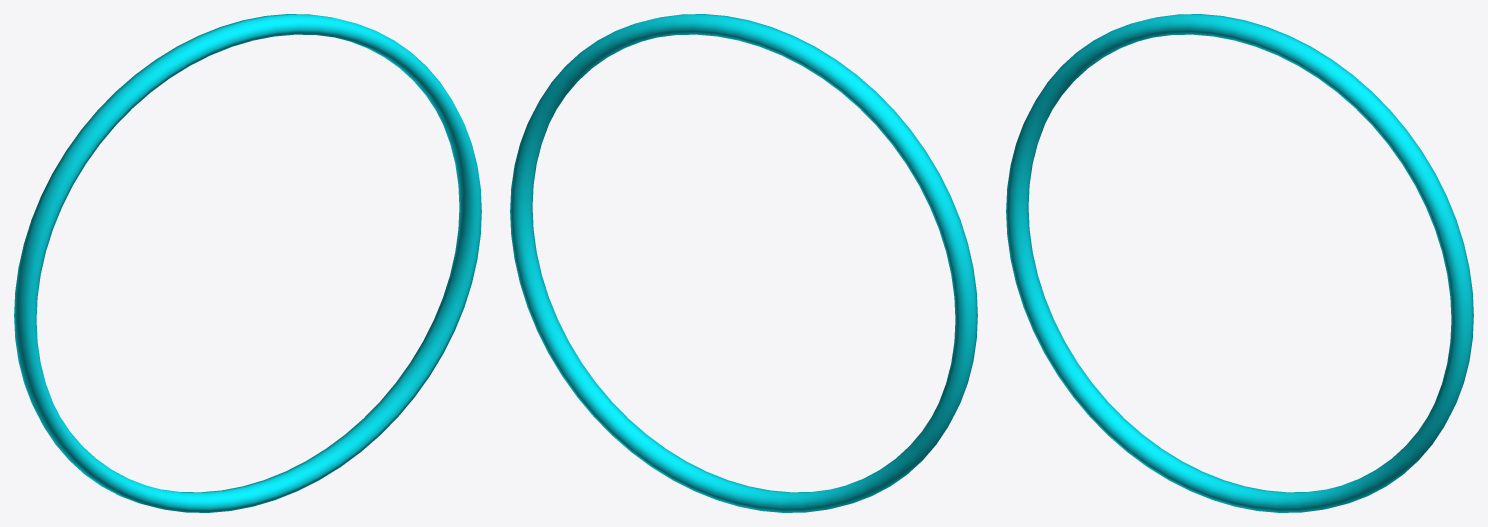
The model's file is ring.fbx.
3 renders of one model, left to right at view 1: azimuth 30°, elevation 25°; view 2: azimuth 150°, elevation 25°; view 3: azimuth 330°, elevation 25°, orthographic.
Parts seen in each view (by area): view 1: ring; view 2: ring; view 3: ring.
Boxes of the visible parts, <box> form: ring: <box>14,14,481,512</box>; ring: <box>510,14,977,512</box>; ring: <box>1006,14,1473,512</box>.
Bounding box in the file's own units: 198 × 198 × 10.33.
